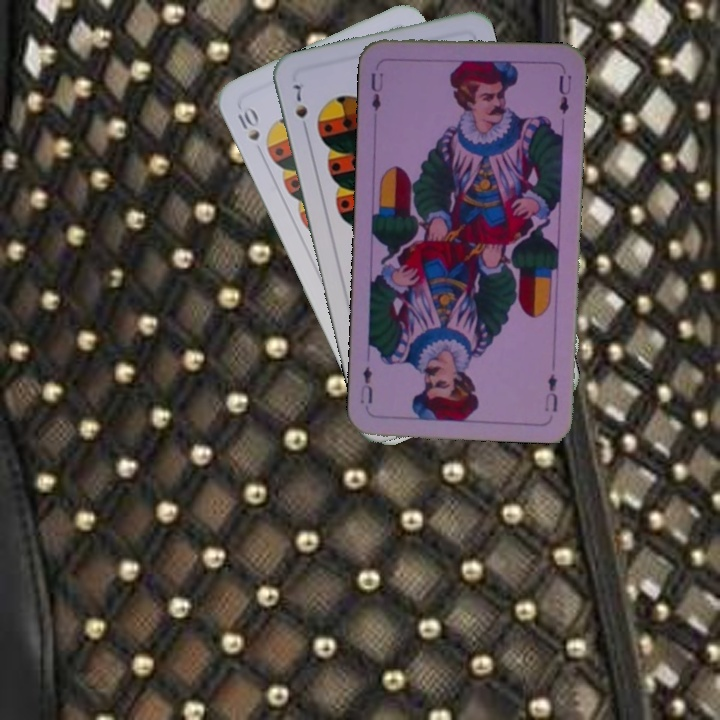EU: (541, 370, 560, 415), (367, 69, 384, 114)
S10: (233, 103, 263, 144)
S7: (289, 80, 311, 136)
